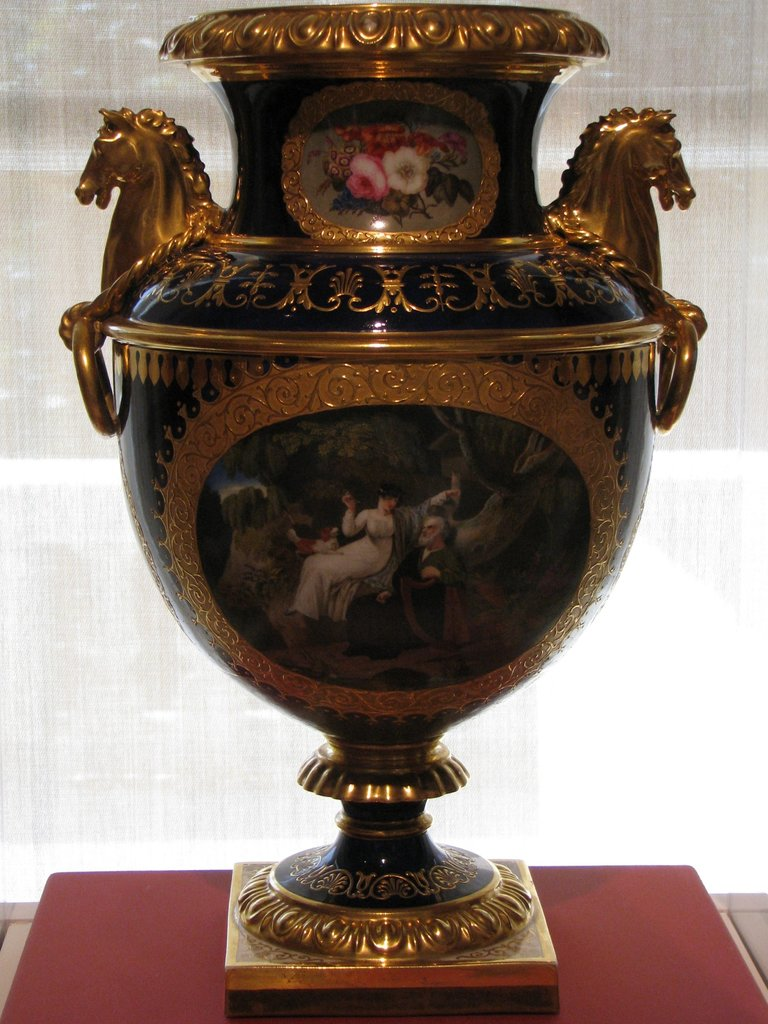person: (283, 480, 396, 646)
